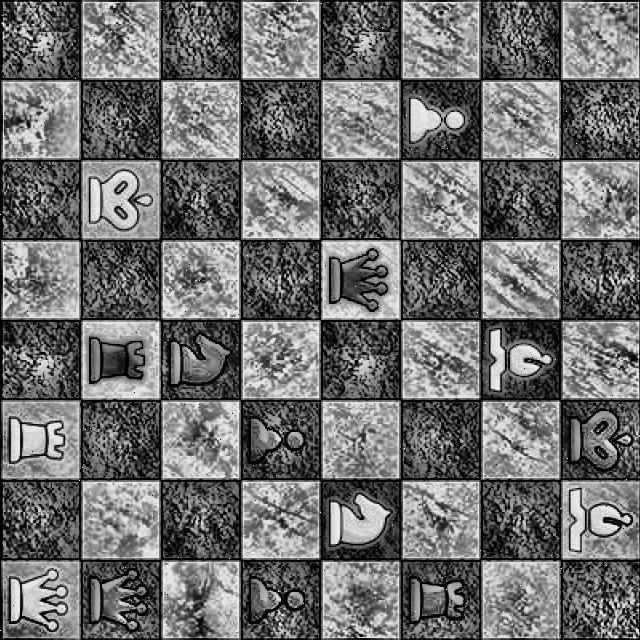Black Knight: (162, 324, 236, 396)
black king: (563, 404, 640, 472)
black pawn: (241, 570, 311, 636), (243, 410, 313, 470)
black queen: (322, 243, 399, 320), (84, 566, 156, 636)
black rook: (400, 568, 470, 634), (82, 328, 152, 392)
white bishop: (482, 322, 557, 394), (564, 486, 636, 556)
white king: (81, 164, 155, 236)
white pawn: (399, 90, 470, 152)
white queen: (1, 566, 79, 638)
white rook: (0, 413, 74, 473)
whiteknight: (323, 484, 395, 554)
